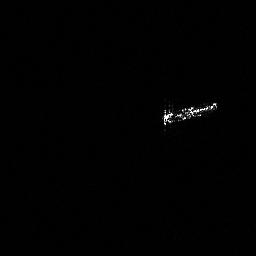ship: (159, 96, 221, 128)
